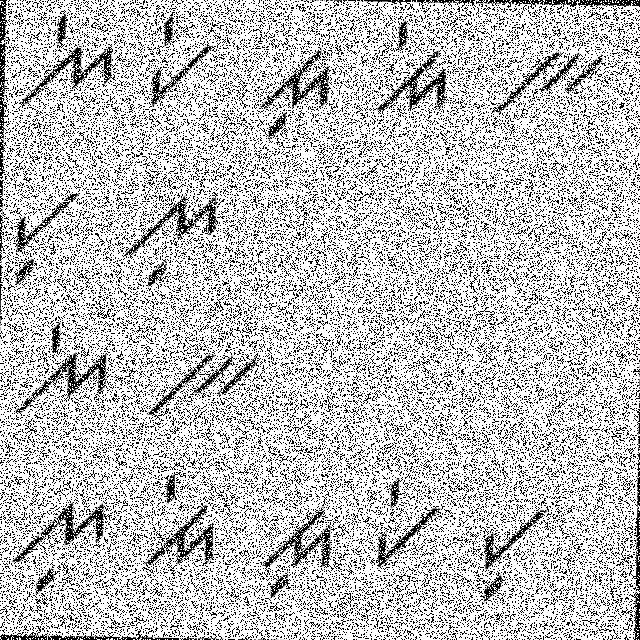de: (374, 20, 461, 120), (142, 472, 218, 578)
du: (254, 494, 338, 602), (252, 42, 336, 144)
ne: (13, 8, 121, 113), (10, 316, 114, 420)
nu: (120, 184, 224, 294), (10, 498, 115, 598)
pe: (371, 470, 444, 581), (143, 12, 215, 111)
pu: (466, 493, 553, 609), (12, 175, 88, 292)
